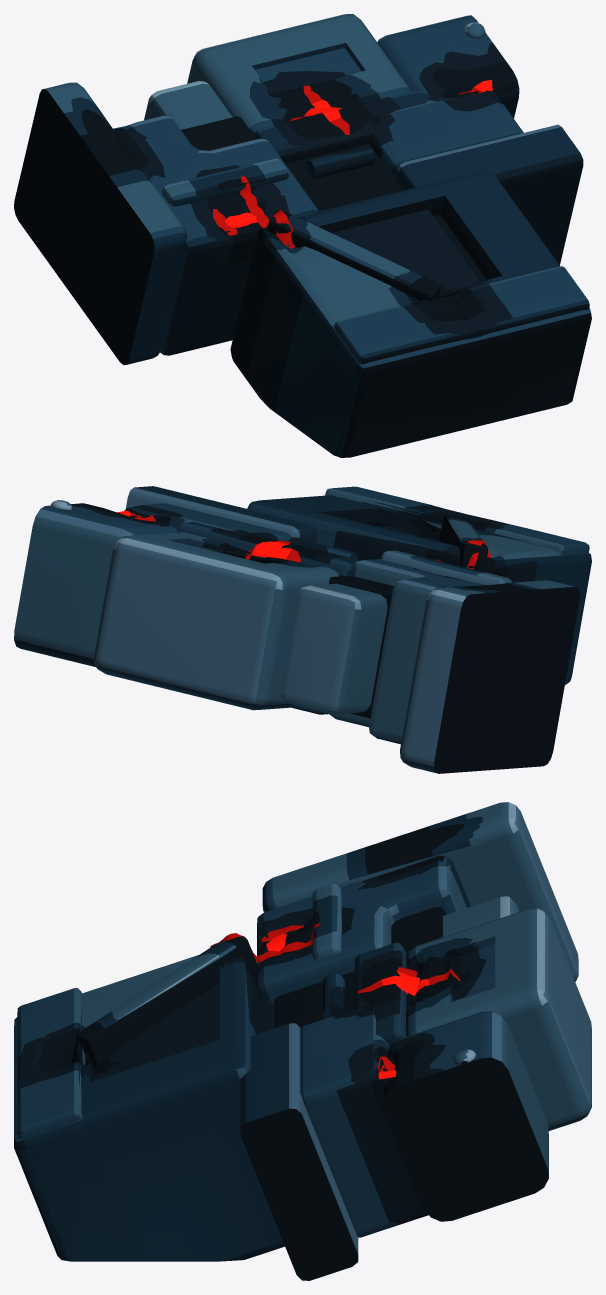
File: deli_cannon_mount_wreck.glb
3 renders of one model, top to bottom at view 1: azimuth 30°, elevation 25°; view 2: azimuth 150°, elevation 25°; view 3: azimuth 270°, elevation 25°, orthographic. The views are drawn at different scales.
Parts seen in each view (by area): view 1: trunnion.001, rear_block.001, lower_box.001, sight.001, base_strip.001, ledge.001, hull.001, lower_block.001, core.001, sight_base.001, strut.001, rail.001 (+3 smaller); view 2: sight.001, rear_block.001, hull.001, trunnion.001, small_box.001, lower_box.001, base_strip.001, ledge.001, sight_base.001, lower_block.001, rail.001, strut.001 (+3 smaller); view 3: trunnion.001, hull.001, sight.001, lower_block.001, ledge.001, rear_block.001, lower_box.001, base_strip.001, strut.001, core.001, sight_base.001, cracks.001 (+3 smaller).
Part boxes in pixels (<box>): trunnion.001: <box>230,171,591,457</box>; rear_block.001: <box>14,82,187,365</box>; lower_box.001: <box>113,115,318,355</box>; sight.001: <box>187,14,410,132</box>; base_strip.001: <box>334,266,589,364</box>; ledge.001: <box>395,124,583,265</box>; hull.001: <box>377,15,519,118</box>; lower_block.001: <box>369,90,523,176</box>; core.001: <box>181,91,468,211</box>; sight_base.001: <box>254,90,427,163</box>; strut.001: <box>267,209,440,301</box>; rail.001: <box>162,158,288,206</box>; sight.001: <box>94,532,339,710</box>; rear_block.001: <box>400,580,579,773</box>; hull.001: <box>14,503,177,666</box>; trunnion.001: <box>247,495,591,684</box>; small_box.001: <box>281,583,387,714</box>; lower_box.001: <box>329,559,515,744</box>; base_strip.001: <box>325,486,589,554</box>; ledge.001: <box>125,486,317,542</box>; sight_base.001: <box>177,522,361,714</box>; lower_block.001: <box>124,503,292,541</box>; rail.001: <box>381,550,512,584</box>; strut.001: <box>439,515,488,567</box>; trunnion.001: <box>14,950,284,1261</box>; hull.001: <box>384,1011,548,1221</box>; sight.001: <box>406,908,591,1130</box>; lower_block.001: <box>300,1004,428,1237</box>; ledge.001: <box>240,1023,358,1280</box>; rear_block.001: <box>262,802,578,981</box>; lower_box.001: <box>257,855,470,1006</box>; base_strip.001: <box>17,988,85,1139</box>; strut.001: <box>75,935,257,1066</box>; core.001: <box>274,907,446,1079</box>; sight_base.001: <box>355,943,406,1047</box>; cracks.001: <box>210,923,459,1079</box>.
Bounding box in the file's own units: 24 × 13.54 × 25.52.
